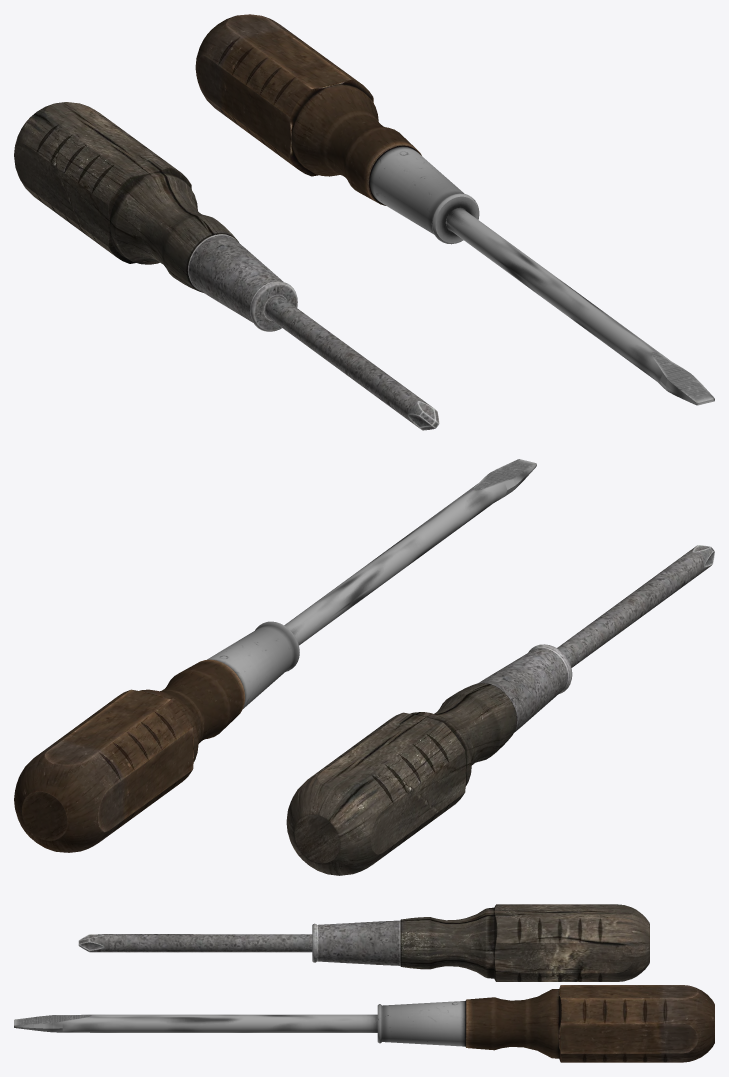
File: screwdrivers_02.glb
3 renders of one model, top to bottom at view 1: azimuth 30°, elevation 25°; view 2: azimuth 150°, elevation 25°; view 3: azimuth 270°, elevation 25°, orthographic. The views are drawn at different scales.
Parts seen in each view (by area): view 1: screwdrivers_02_a; view 2: screwdrivers_02_a; view 3: screwdrivers_02_a.
Boxes of the visible parts, x1=… form: screwdrivers_02_a: x1=14, y1=14, x2=714, y2=430; screwdrivers_02_a: x1=14, y1=459, x2=714, y2=875; screwdrivers_02_a: x1=14, y1=904, x2=714, y2=1062.
Bounding box in the file's own units: 0.1004 × 0.0271 × 0.2699.
1 material, 1 textured.
